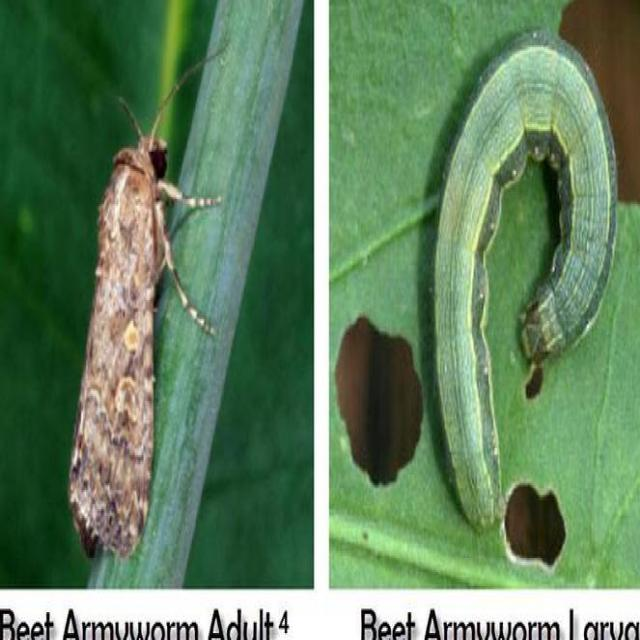BeetArmyWorm-Adult-: (49, 60, 242, 573)
BeetArmyWorm-Larva-: (421, 22, 618, 546)
